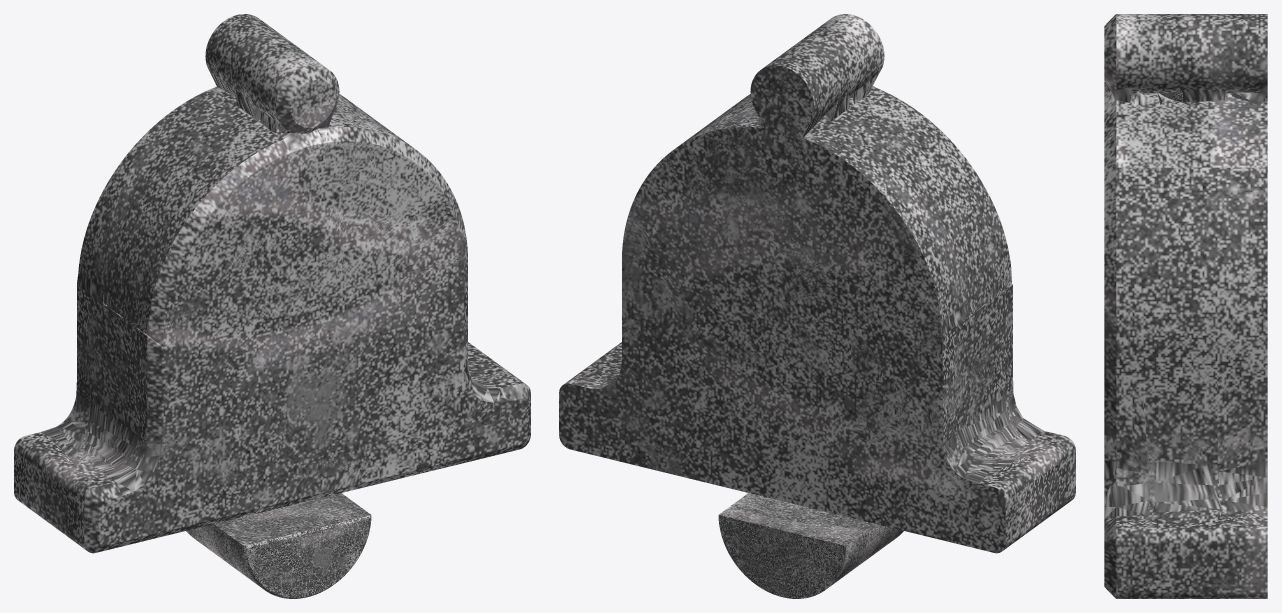
The model's file is The Resonating Bell.glb.
3 renders of one model, left to right at view 1: azimuth 30°, elevation 25°; view 2: azimuth 150°, elevation 25°; view 3: azimuth 270°, elevation 25°, orthographic. The views are drawn at different scales.
Visible parts, largest first — view 1: Mesh_0.004, Mesh_0.004_cell.024, Mesh_0.004_cell.007, Mesh_0.004_cell.056, Mesh_0.004_cell.086, Mesh_0.004_cell.074, Mesh_0.004_cell.027, Mesh_0.004_cell.059, Mesh_0.004_cell.083, Mesh_0.004_cell.075, Mesh_0.004_cell.001, Mesh_0.004_cell.013 (+6 smaller); view 2: Mesh_0.004, Mesh_0.004_cell.083, Mesh_0.004_cell.085, Mesh_0.004_cell.048, Mesh_0.004_cell.055, Mesh_0.004_cell.016, Mesh_0.004_cell.093, Mesh_0.004_cell.078, Mesh_0.004_cell.087, Mesh_0.004_cell.011, Mesh_0.004_cell.077, Mesh_0.004_cell.040 (+10 smaller); view 3: Mesh_0.004, Mesh_0.004_cell.025, Mesh_0.004_cell.051, Mesh_0.004_cell.024, Mesh_0.004_cell.075, Mesh_0.004_cell.052, Mesh_0.004_cell.060, Mesh_0.004_cell.086, Mesh_0.004_cell.077.
Boxes of the visible parts, x1=… form: Mesh_0.004: x1=14, y1=14, x2=530, y2=598; Mesh_0.004_cell.024: x1=378, y1=295, x2=469, y2=453; Mesh_0.004_cell.007: x1=343, y1=183, x2=467, y2=339; Mesh_0.004_cell.056: x1=151, y1=415, x2=275, y2=533; Mesh_0.004_cell.086: x1=317, y1=112, x2=386, y2=237; Mesh_0.004_cell.074: x1=168, y1=189, x2=263, y2=297; Mesh_0.004_cell.027: x1=286, y1=424, x2=370, y2=505; Mesh_0.004_cell.059: x1=103, y1=398, x2=193, y2=526; Mesh_0.004_cell.083: x1=77, y1=388, x2=138, y2=470; Mesh_0.004_cell.075: x1=456, y1=376, x2=515, y2=454; Mesh_0.004_cell.001: x1=117, y1=268, x2=254, y2=355; Mesh_0.004_cell.013: x1=260, y1=125, x2=325, y2=249; Mesh_0.004: x1=559, y1=14, x2=1075, y2=598; Mesh_0.004_cell.083: x1=843, y1=353, x2=1036, y2=483; Mesh_0.004_cell.085: x1=746, y1=243, x2=844, y2=372; Mesh_0.004_cell.048: x1=648, y1=214, x2=756, y2=342; Mesh_0.004_cell.055: x1=622, y1=218, x2=698, y2=345; Mesh_0.004_cell.016: x1=706, y1=127, x2=785, y2=203; Mesh_0.004_cell.093: x1=695, y1=433, x2=848, y2=468; Mesh_0.004_cell.078: x1=908, y1=365, x2=960, y2=457; Mesh_0.004_cell.087: x1=788, y1=167, x2=867, y2=249; Mesh_0.004_cell.011: x1=680, y1=336, x2=826, y2=428; Mesh_0.004_cell.077: x1=758, y1=88, x2=828, y2=188; Mesh_0.004_cell.040: x1=920, y1=452, x2=1030, y2=512; Mesh_0.004: x1=1104, y1=14, x2=1267, y2=598; Mesh_0.004_cell.025: x1=1217, y1=366, x2=1267, y2=510; Mesh_0.004_cell.051: x1=1151, y1=437, x2=1222, y2=524; Mesh_0.004_cell.024: x1=1104, y1=388, x2=1148, y2=479; Mesh_0.004_cell.075: x1=1104, y1=482, x2=1149, y2=532; Mesh_0.004_cell.052: x1=1159, y1=90, x2=1225, y2=102; Mesh_0.004_cell.060: x1=1218, y1=513, x2=1263, y2=526; Mesh_0.004_cell.086: x1=1104, y1=84, x2=1134, y2=105; Mesh_0.004_cell.077: x1=1231, y1=92, x2=1267, y2=105.
Bounding box in the file's own units: 0.2054 × 0.2334 × 0.0604.
Materials: 2 (2 with a texture image).
